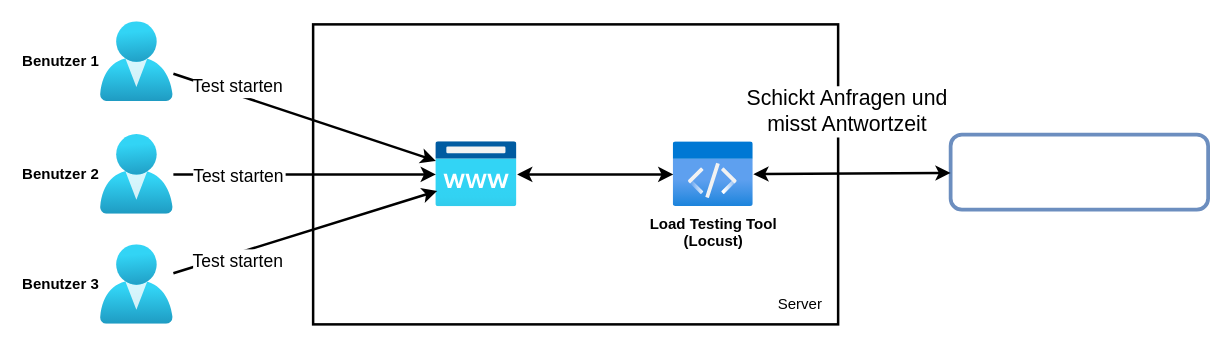
Image size: 1231x346. Some labels were removed from this diagram. The shapes that lost their labels are listed below. From the top down, each one's centre as x and y in pixels, then its label:
At pixel 475 173: "Web-Service".
At pixel 1078 171: "System under Test (SUT)".
